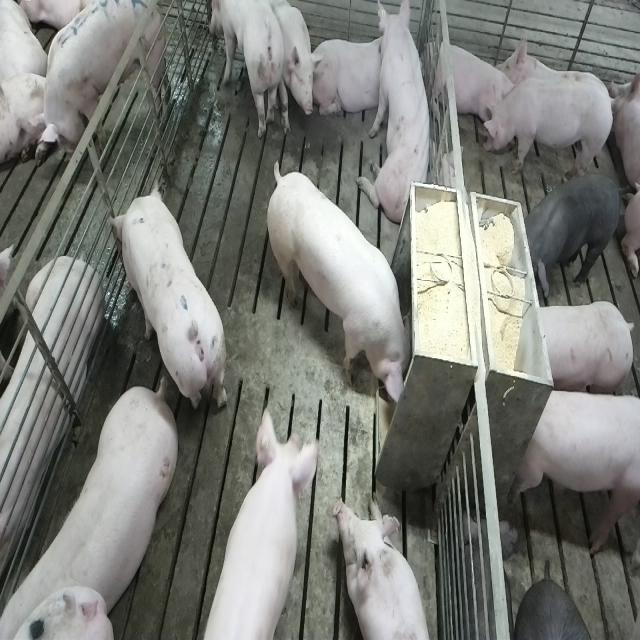Feeding: (271, 163, 420, 410)
Sitting: (362, 4, 437, 231)
Standing: (6, 375, 182, 634), (196, 410, 322, 640), (108, 187, 225, 420), (512, 384, 638, 567), (29, 0, 165, 150), (210, 0, 317, 140), (483, 78, 619, 182), (521, 173, 624, 287), (528, 297, 634, 398)
Sternal_lying: (0, 249, 100, 587), (333, 496, 434, 640), (430, 35, 510, 132), (312, 35, 388, 121)
